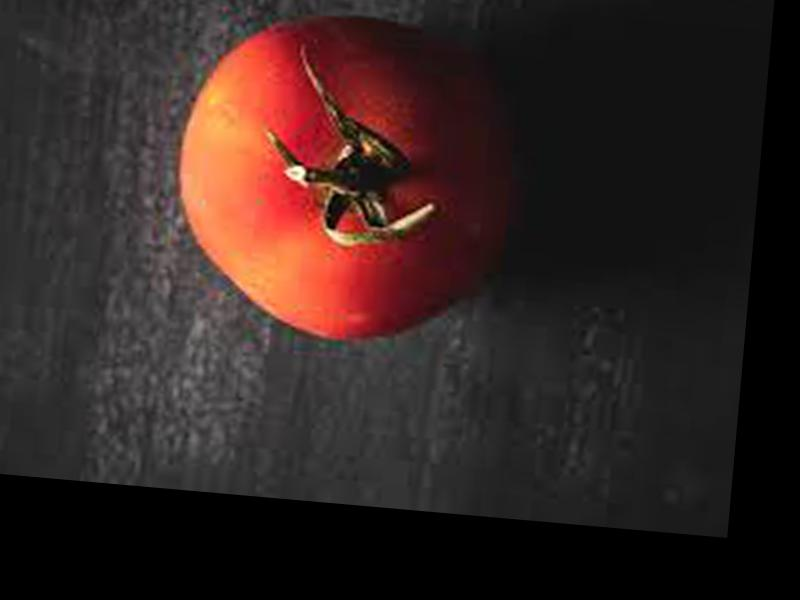Tomato: (163, 6, 526, 352)
